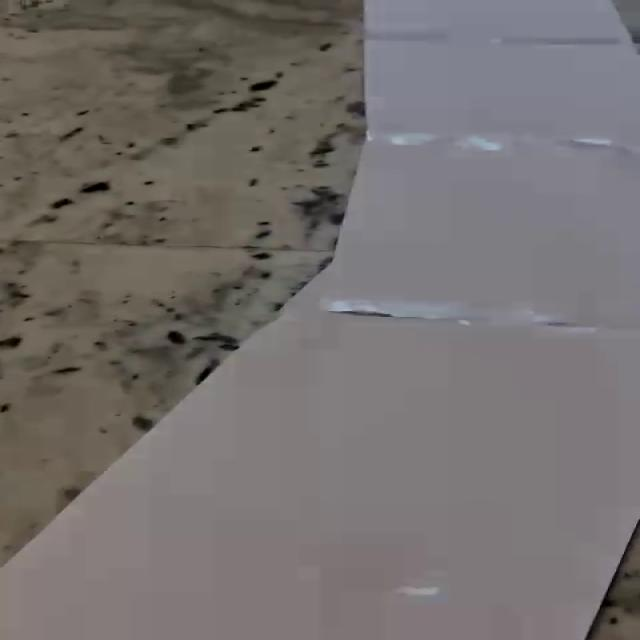road: (0, 0, 640, 640)
